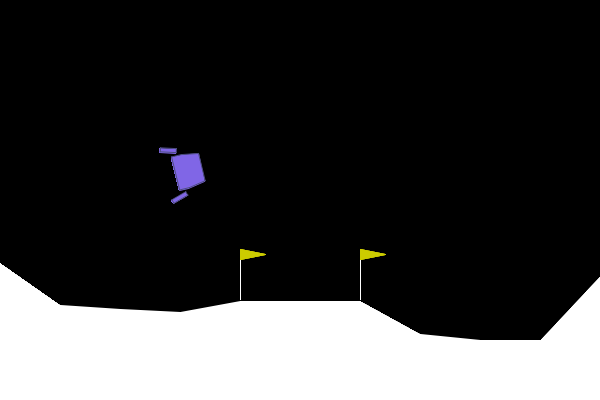lander: (157, 138, 211, 206)
